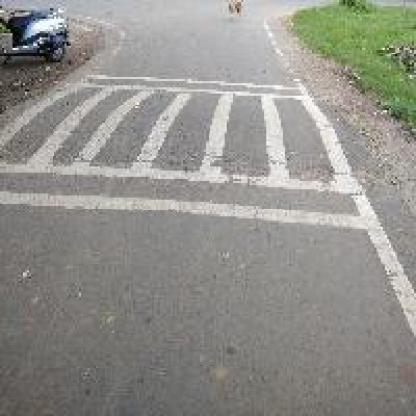Speed Bump: (0, 66, 383, 231)
